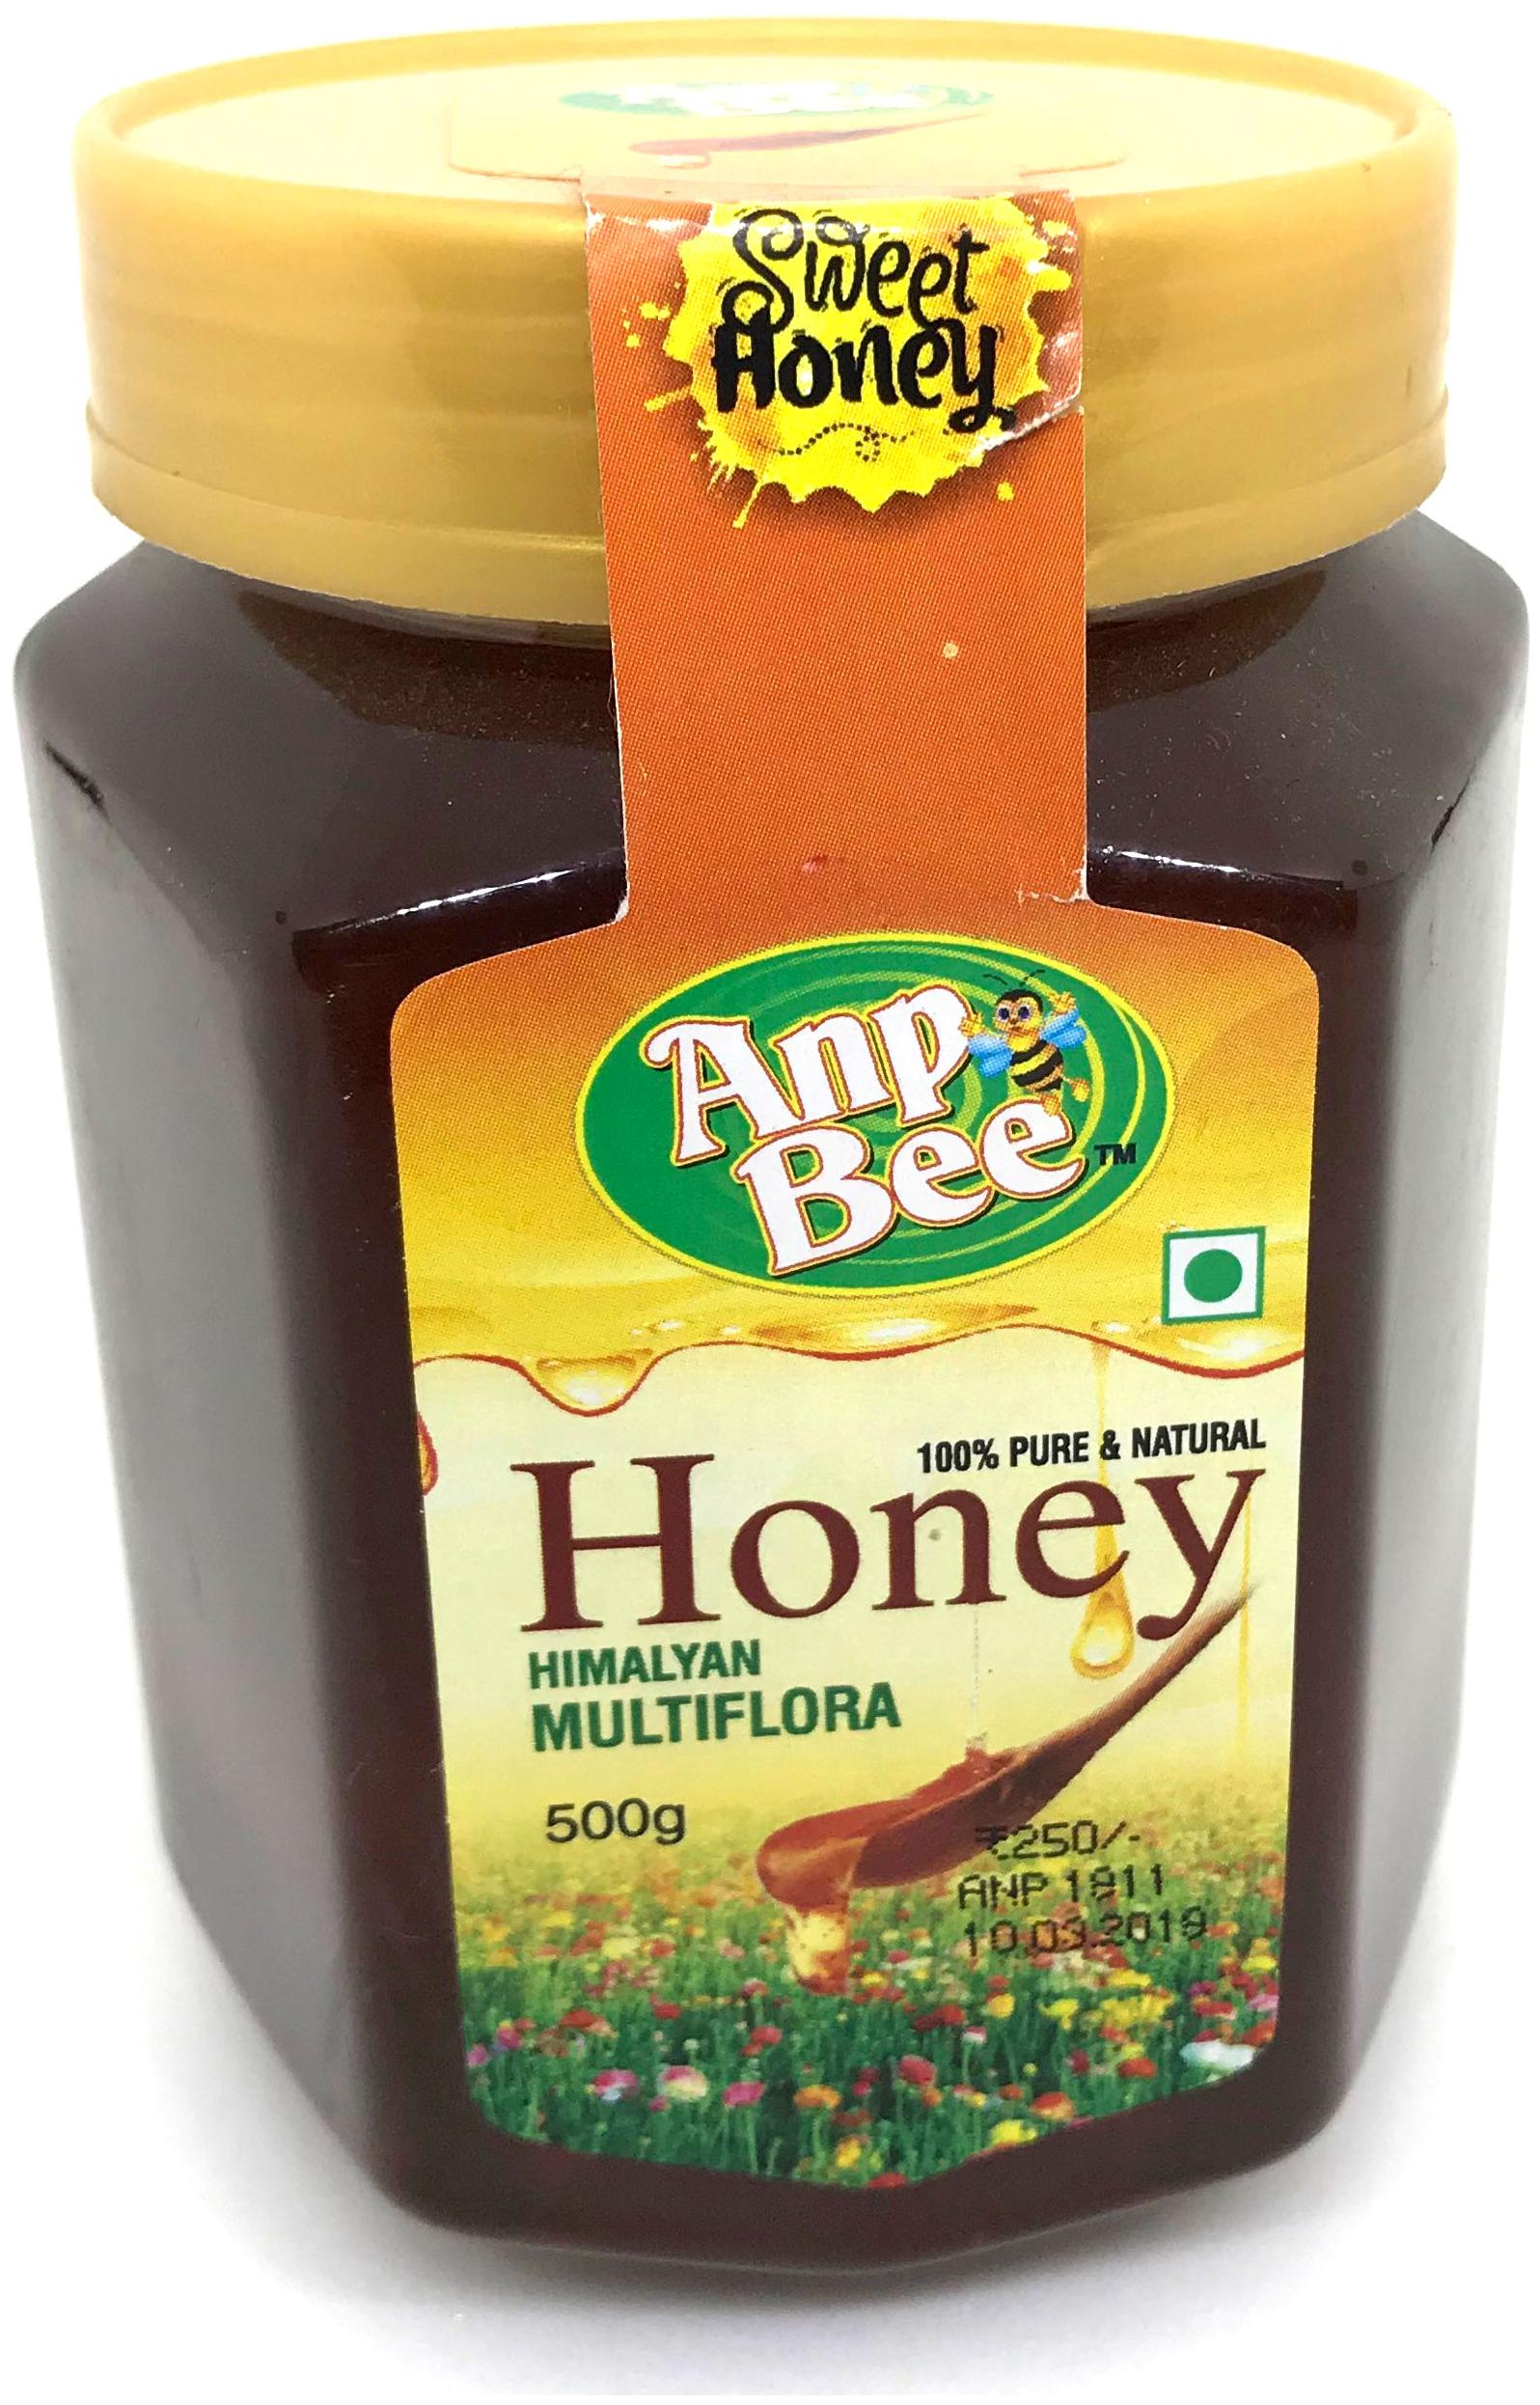JAR: (9, 21, 1540, 2289)
